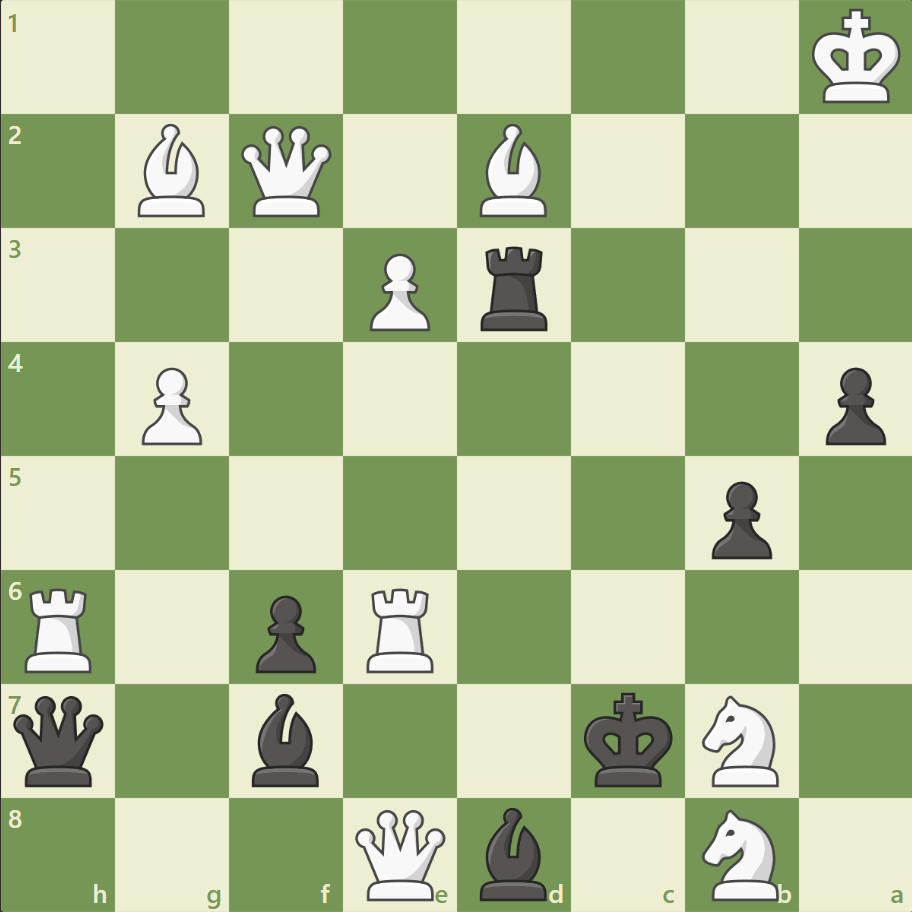B: (471, 120, 555, 222), (131, 120, 215, 222)
K: (806, 4, 906, 112)
N: (692, 688, 789, 791), (692, 802, 789, 904)
P: (133, 359, 208, 450), (361, 246, 435, 337)
Q: (237, 122, 336, 222), (351, 804, 450, 903)
R: (19, 579, 102, 676), (360, 579, 442, 676)
b: (471, 801, 555, 904), (244, 687, 328, 790)
k: (579, 685, 679, 793)
p: (247, 586, 322, 677), (701, 473, 776, 564), (815, 359, 889, 450)
q: (10, 690, 109, 789)
r: (473, 239, 556, 336)
